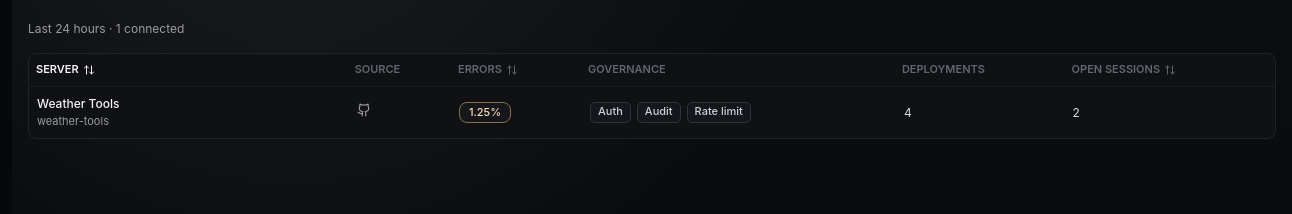
Test case: ServerList › navigates to server overview when a row is selected
The width and height of the screenshot is (1292, 214).
What coordinates should you click on to do the following:
click the link with aria-label "View Weather Tools"
I would click on:
 (652, 112)
Its box is [29,86,1275,138].
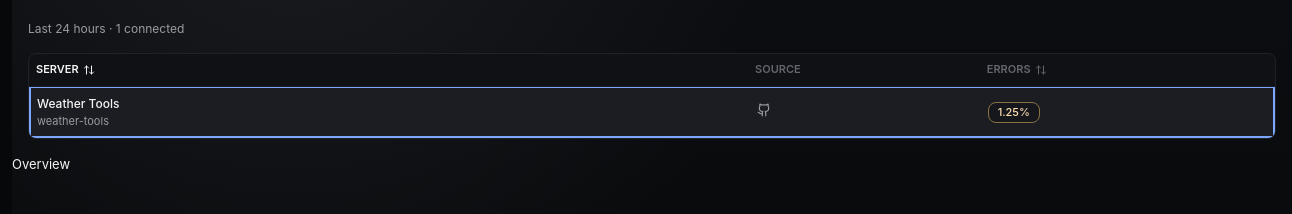
Now the text "Overview" is shown, box [12,156,70,172]
